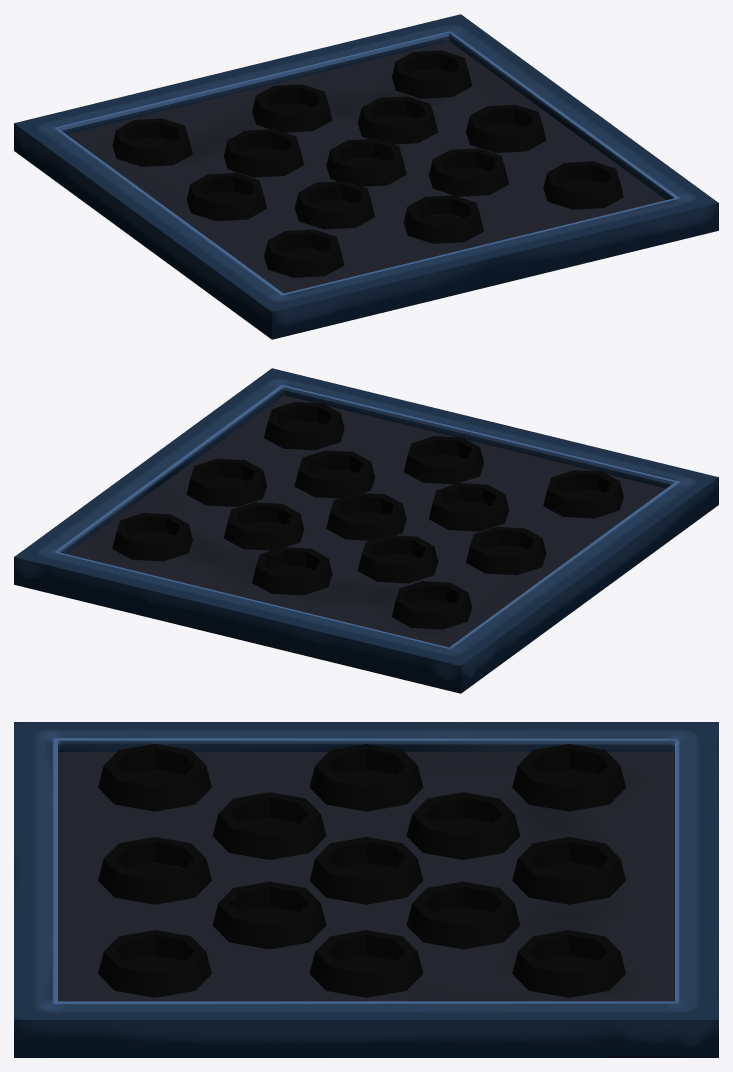
File: Spike_Tile.fbx
3 views of the same model, one above another, from view 1: azimuth 30°, elevation 25°; view 2: azimuth 150°, elevation 25°; view 3: azimuth 270°, elevation 25° (orthographic). The views are drawn at different scales.
Parts seen in each view (by area): view 1: polySurface19; view 2: polySurface19; view 3: polySurface19.
Part boxes in pixels (x1,y1,x2,y2): polySurface19: [14, 14, 718, 339]; polySurface19: [14, 368, 718, 693]; polySurface19: [14, 722, 718, 1057].
Size of the model in its own units: 80 by 6.29 by 80.
